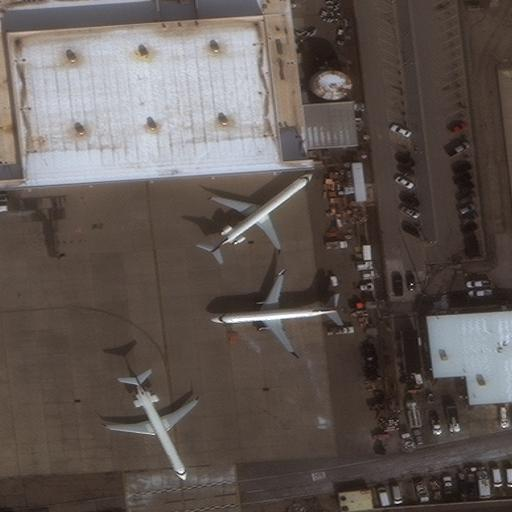Medium Civil Transport: (211, 270, 337, 356), (106, 374, 202, 480), (209, 172, 313, 253)
